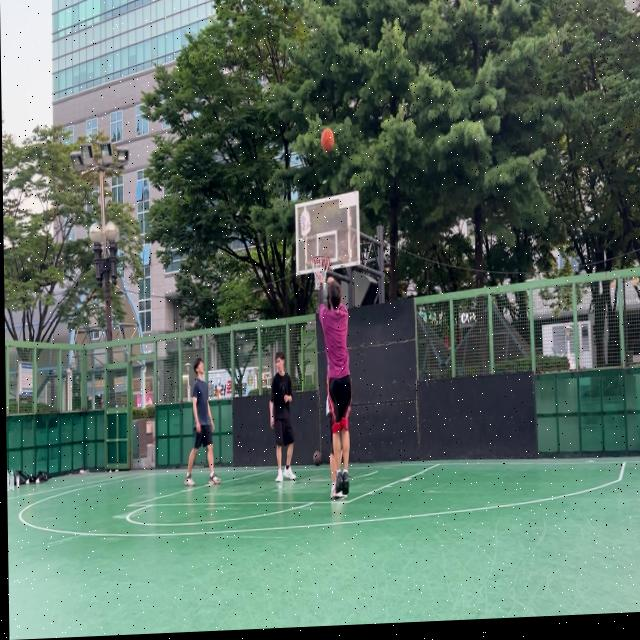basketball: (320, 128, 334, 152), (313, 451, 322, 467)
hoop: (309, 254, 331, 292)
